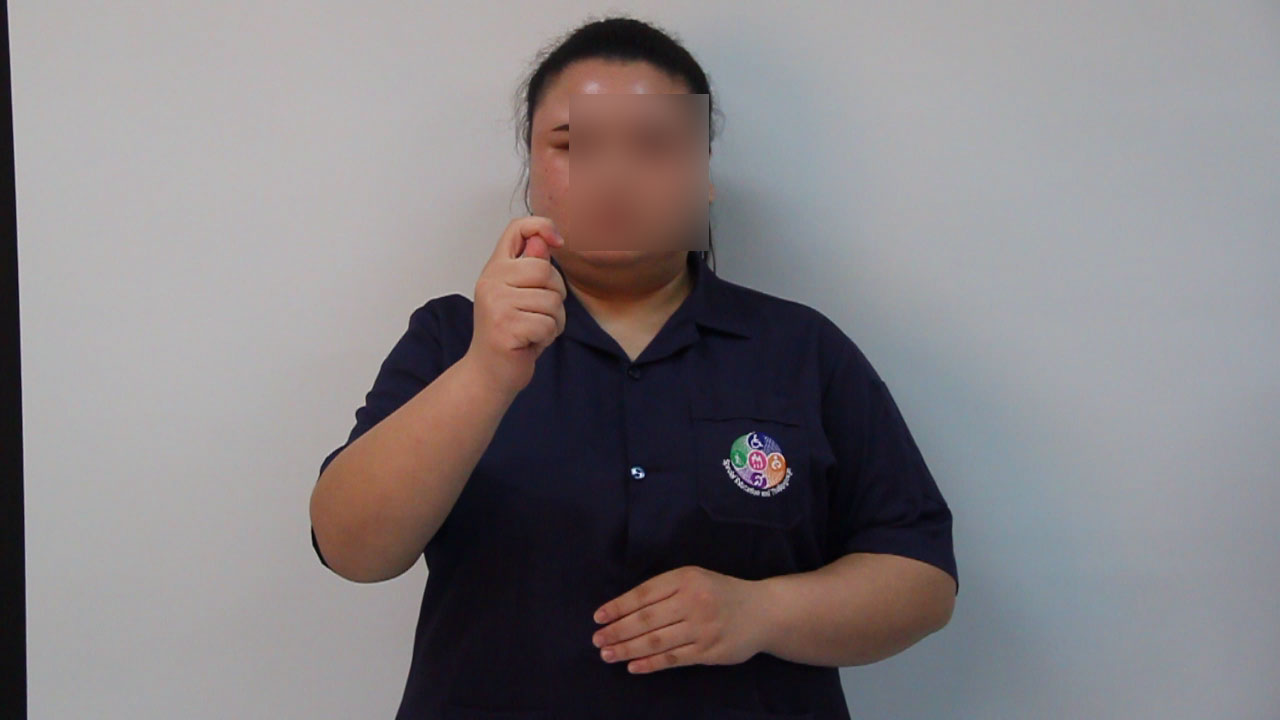or: (467, 213, 574, 384)
